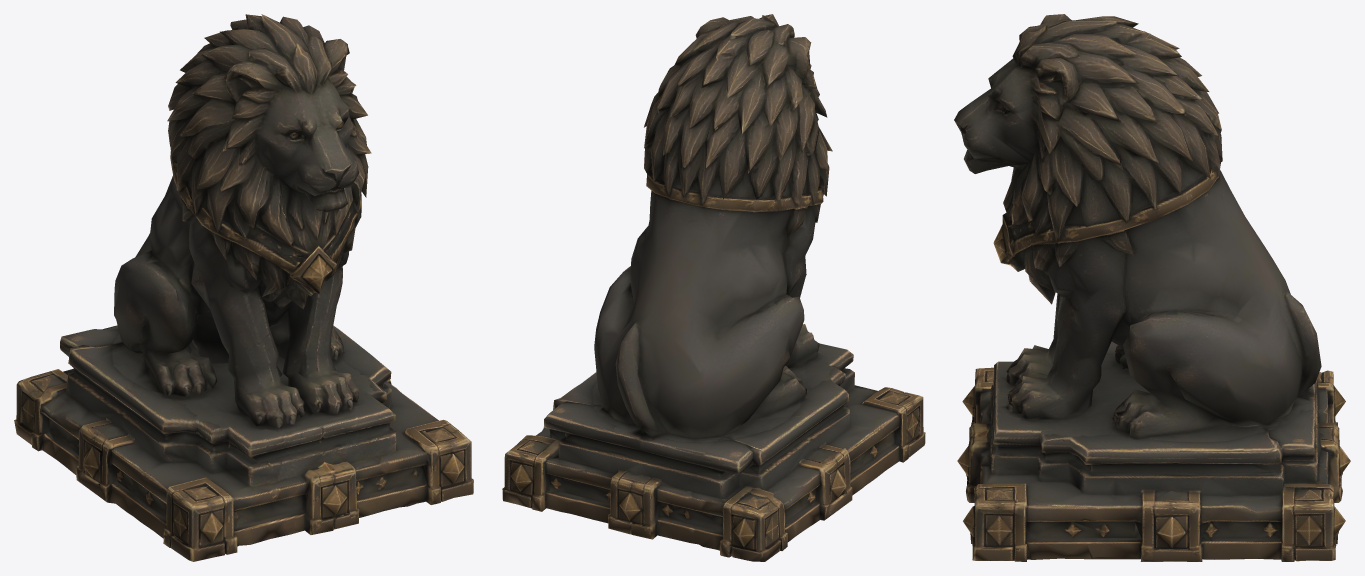
File: guardian-lion.glb
3 views of the same model, side by side, from view 1: azimuth 30°, elevation 25°; view 2: azimuth 150°, elevation 25°; view 3: azimuth 270°, elevation 25° (orthographic). The views are drawn at different scales.
Parts seen in each view (by area): view 1: Guardian_Lion; view 2: Guardian_Lion; view 3: Guardian_Lion.
Part boxes in pixels (x1=…): Guardian_Lion: x1=14, y1=14, x2=473, y2=561; Guardian_Lion: x1=502, y1=14, x2=925, y2=561; Guardian_Lion: x1=954, y1=14, x2=1350, y2=561.
Size of the model in its own units: 0.6896 by 1 by 0.7661.
1 material, 1 textured.
